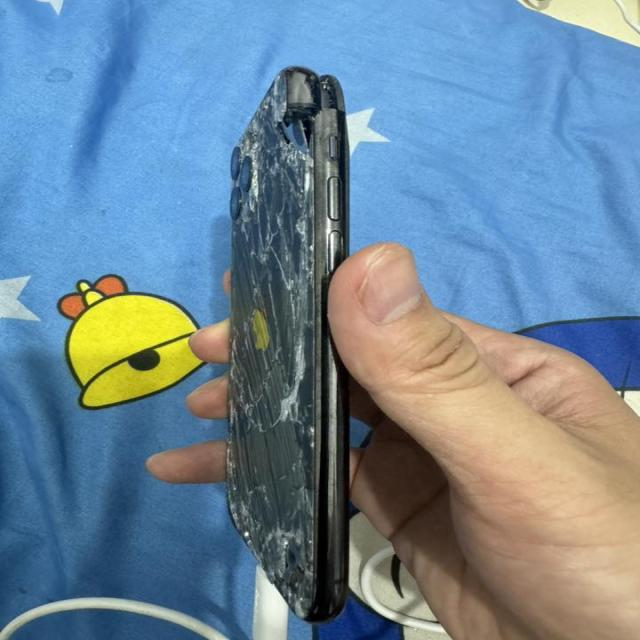gen_11: (227, 63, 356, 623)
physical_damage: (264, 61, 352, 143), (271, 446, 325, 520), (261, 566, 324, 626), (270, 318, 320, 384), (266, 244, 310, 316), (227, 242, 267, 320), (228, 113, 271, 185), (270, 383, 316, 448), (228, 381, 272, 446), (228, 442, 265, 518), (266, 194, 320, 245), (227, 323, 271, 385), (266, 520, 322, 566), (270, 142, 318, 193), (230, 187, 266, 242), (225, 516, 262, 568)
